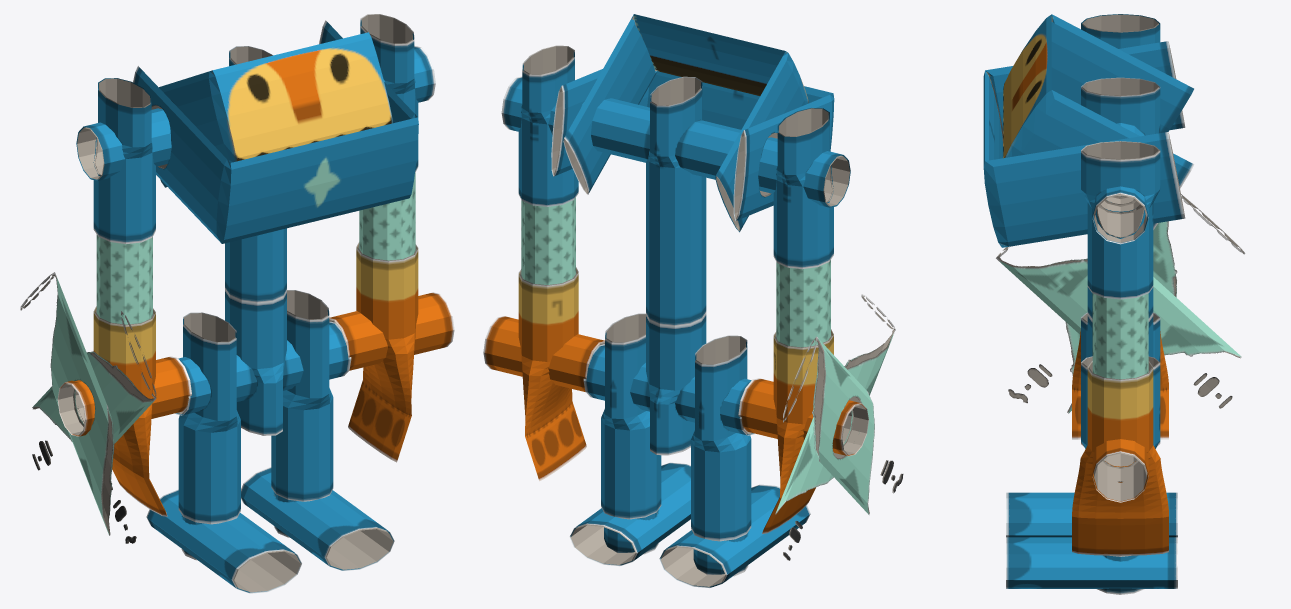
Rendered from smoke.glb.
3 renders of one model, left to right at view 1: azimuth 30°, elevation 25°; view 2: azimuth 150°, elevation 25°; view 3: azimuth 270°, elevation 25°, orthographic. The views are drawn at different scales.
Visible parts, largest first — view 1: P4 短冊1-2, P1 短冊1-1, P21 短冊2-5, P19 短冊2-4, P23 短冊2-6, P13 短冊2-1, P27 短冊2-8, P25 短冊2-7, P29 短冊2-9, P17 短冊2-3, P9 短冊1-4, P7 短冊1-3 (+8 smaller); view 2: P1 短冊1-1, P7 短冊1-3, P21 短冊2-5, P31 短冊3-1, P19 短冊2-4, P23 短冊2-6, P4 短冊1-2, P13 短冊2-1, P15 短冊2-2, P29 短冊2-9, P9 短冊1-4, P17 短冊2-3 (+10 smaller); view 3: P1 短冊1-1, P4 短冊1-2, P19 短冊2-4, P15 短冊2-2, P27 短冊2-8, P11 短冊1-5, P36 短冊3-6, P7 短冊1-3, P25 短冊2-7, P34 短冊3-4, P31 短冊3-1, P29 短冊2-9 (+5 smaller).
Part boxes in pixels (box(x1,y1,x2,y2)): P4 短冊1-2: box(133, 20, 418, 243); P1 短冊1-1: box(159, 32, 392, 187); P21 短冊2-5: box(178, 312, 240, 524); P19 短冊2-4: box(348, 242, 418, 462); P23 短冊2-6: box(271, 290, 333, 501); P13 短冊2-1: box(93, 78, 155, 243); P27 短冊2-8: box(241, 467, 394, 570); P25 短冊2-7: box(146, 489, 301, 593); P29 短冊2-9: box(20, 272, 136, 543); P17 短冊2-3: box(93, 306, 167, 516); P9 短冊1-4: box(225, 290, 286, 435); P7 短冊1-3: box(225, 46, 286, 303); P1 短冊1-1: box(563, 14, 808, 232); P7 短冊1-3: box(646, 76, 706, 326); P21 短冊2-5: box(691, 335, 751, 541); P31 短冊3-1: box(501, 76, 850, 207); P19 短冊2-4: box(518, 267, 586, 481); P23 短冊2-6: box(601, 313, 661, 519); P4 短冊1-2: box(551, 69, 834, 220); P13 短冊2-1: box(773, 108, 833, 269); P15 短冊2-2: box(518, 45, 578, 206); P29 短冊2-9: box(783, 336, 903, 514); P9 短冊1-4: box(646, 313, 706, 455); P17 短冊2-3: box(762, 329, 833, 533); P1 短冊1-1: box(1003, 14, 1194, 229); P4 短冊1-2: box(983, 41, 1185, 247); P19 短冊2-4: box(1072, 361, 1168, 555); P15 短冊2-2: box(1081, 141, 1160, 299); P27 短冊2-8: box(1006, 537, 1177, 588); P11 短冊1-5: box(996, 246, 1241, 408); P36 短冊3-6: box(1092, 293, 1148, 379); P7 短冊1-3: box(1081, 77, 1160, 320); P25 短冊2-7: box(1006, 492, 1177, 537); P34 短冊3-4: box(1092, 439, 1148, 502); P31 短冊3-1: box(1092, 123, 1148, 244); P29 短冊2-9: box(1008, 194, 1245, 413).
Size of the model in its own units: 0.059 by 0.0784 by 0.0451.
46 materials, 46 textured.
